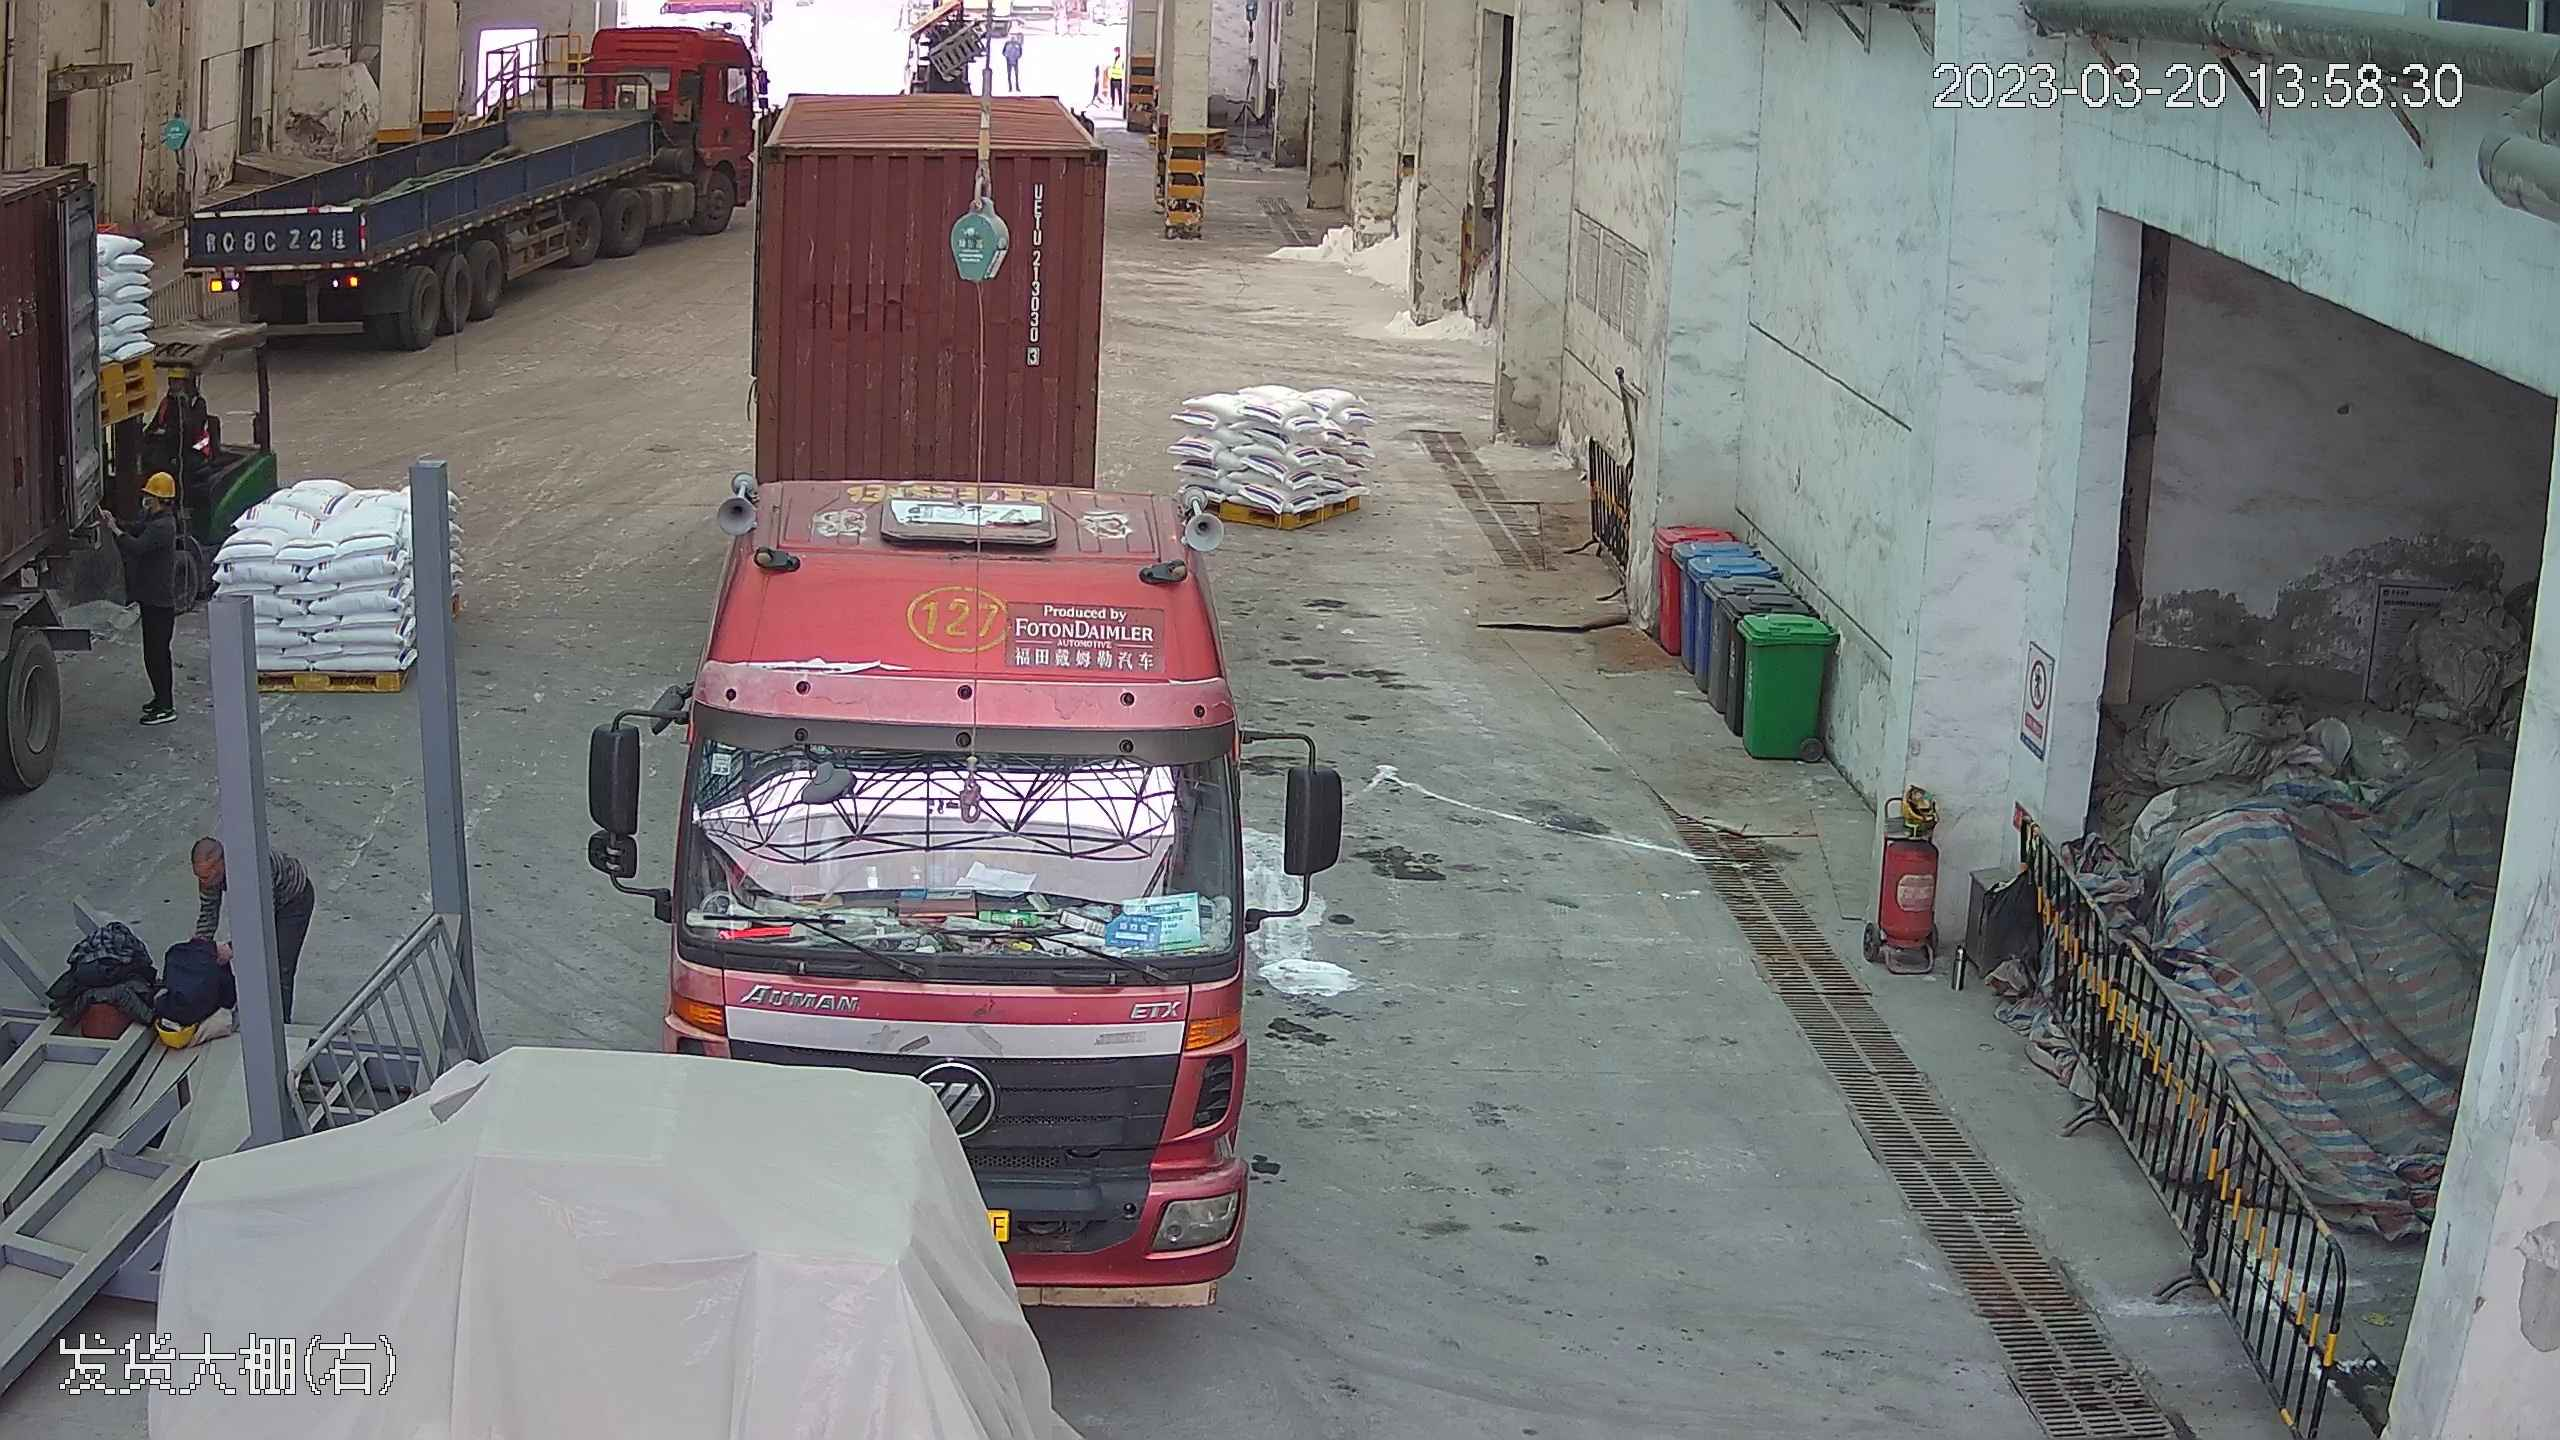head: (113, 470, 195, 721), (125, 469, 192, 545)
helmet: (141, 469, 178, 499)
people: (112, 469, 196, 727), (1003, 33, 1024, 94), (1107, 47, 1124, 109)
truck: (639, 55, 1276, 1296)
